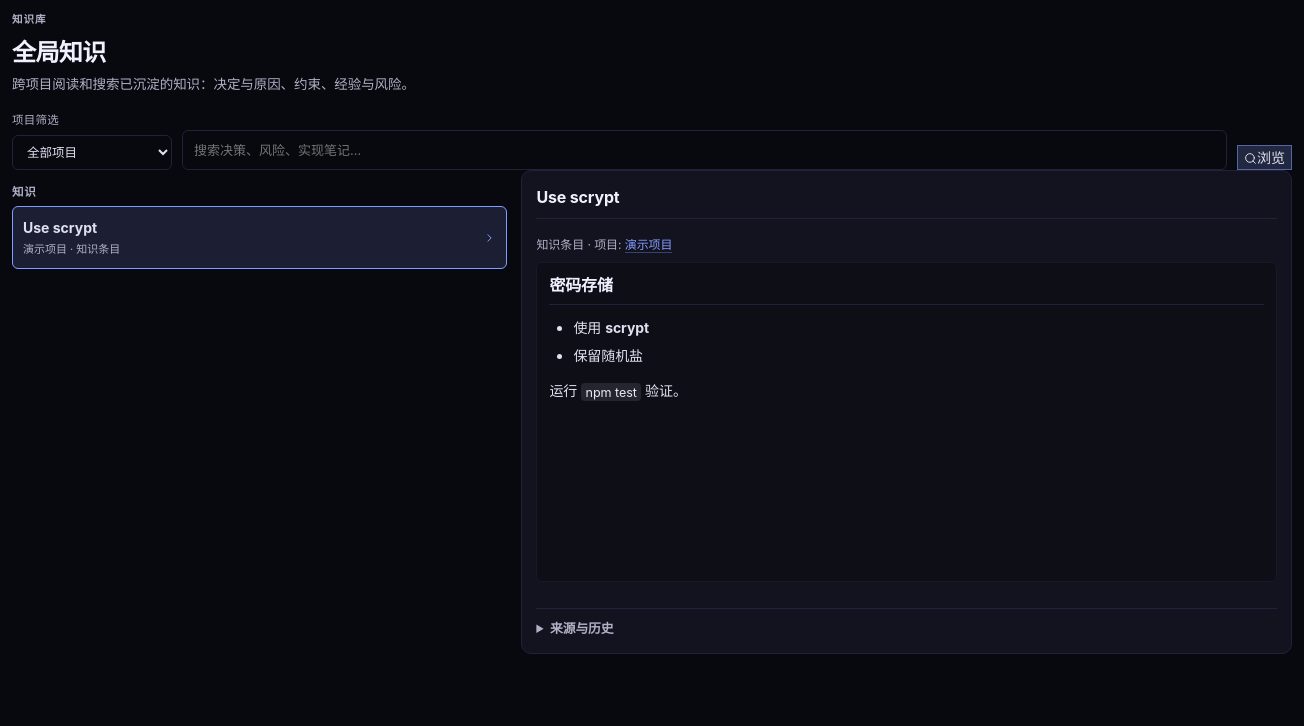
Scenario: KnowledgeCenter (P3) › browses one summary page per project and lazily fetches the body on open
The image size is (1304, 726).
Check: the heading "密码存储" is shown, box [549,276,1264,305]
Note: 来源与历史：document_id / content_sha256 收进展开区。
Step 1. Click the heading "来源与历史" → (582, 629), box [550,622,614,636]
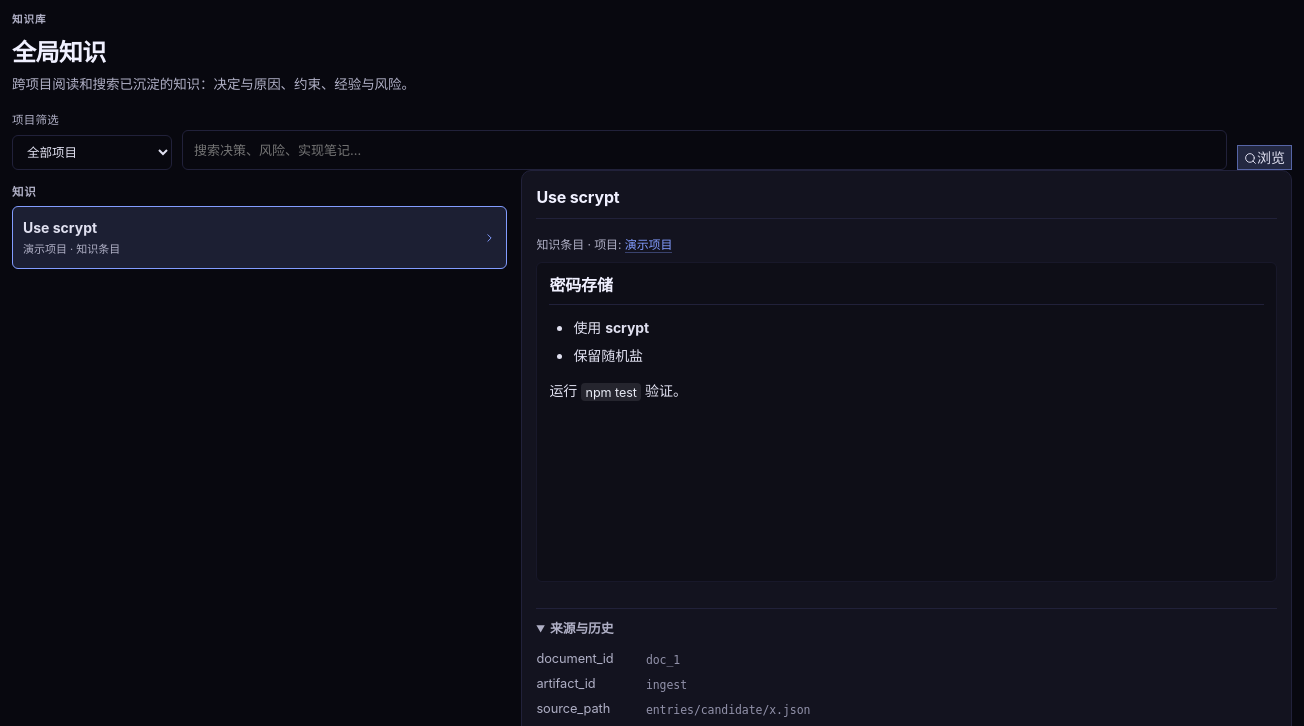
Check: the text "doc_1" is shown, box [646,653,680,667]
